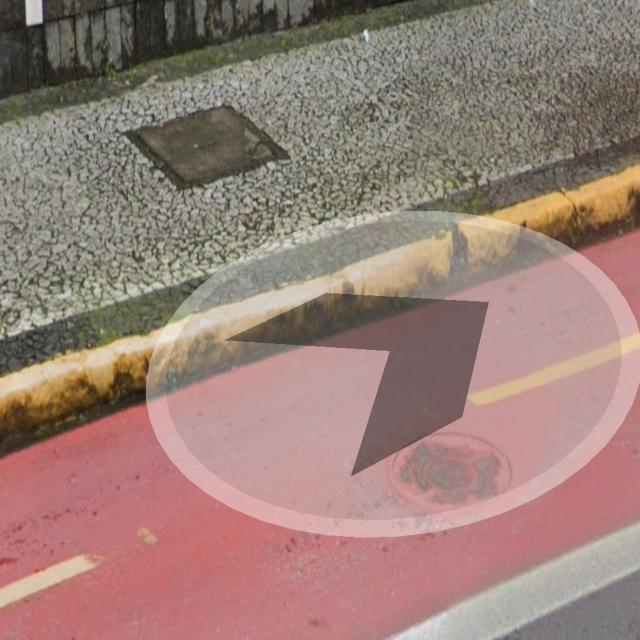Bueiro: (376, 401, 528, 536)
